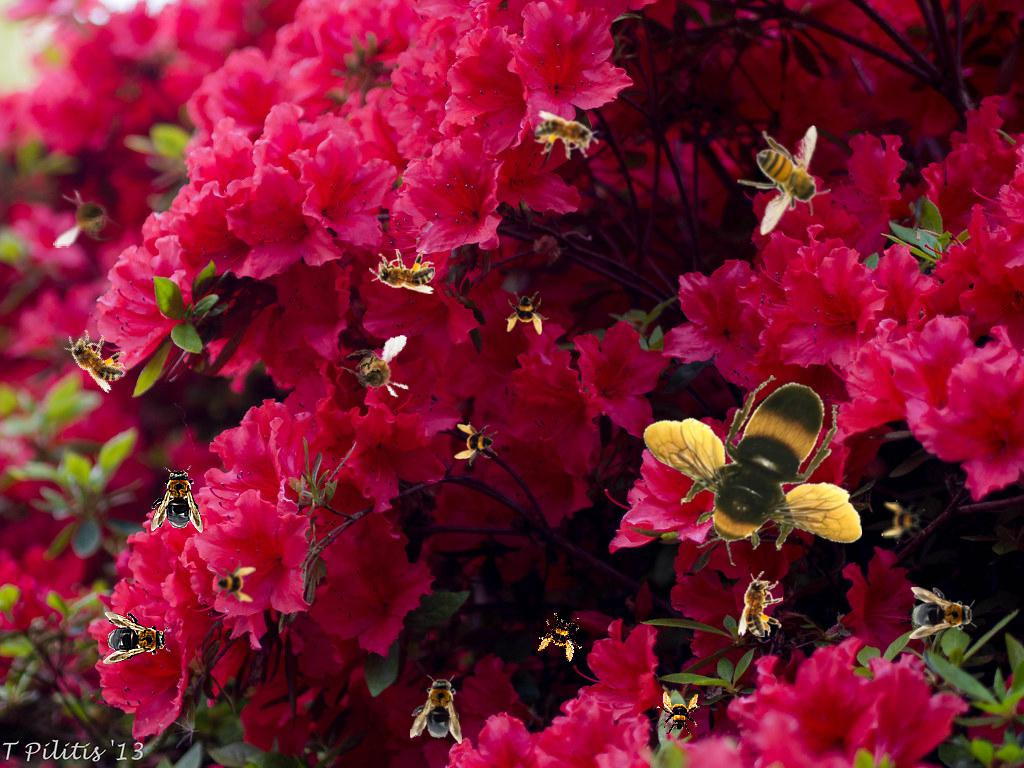Bee: (642, 375, 862, 566), (737, 125, 831, 236), (55, 320, 135, 395), (337, 334, 418, 408), (53, 187, 123, 248), (409, 672, 467, 744), (531, 109, 603, 164), (151, 465, 203, 533), (103, 612, 171, 664), (909, 587, 977, 639), (738, 571, 783, 637), (369, 249, 435, 294), (535, 610, 589, 664), (212, 560, 256, 604), (656, 691, 700, 735), (505, 291, 549, 335), (454, 422, 498, 466), (881, 500, 925, 544)
